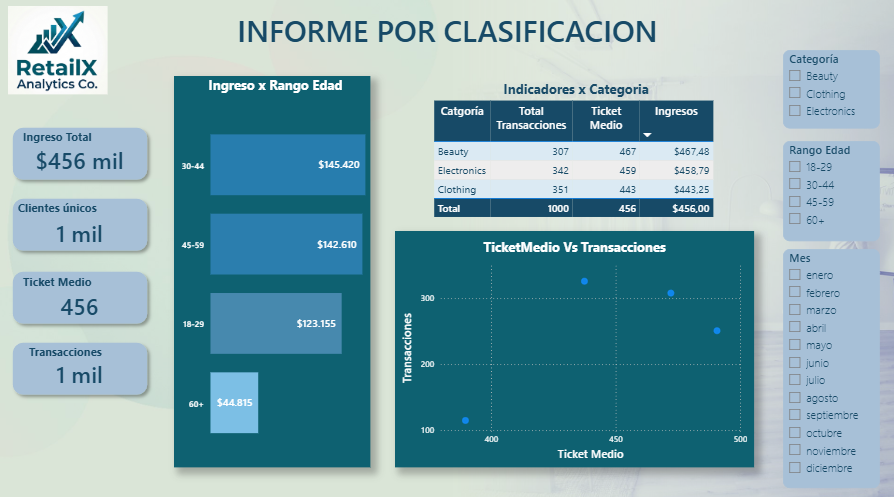

The dashboard page shown, as its layout file describes it:
{"tool":"powerbi","page":{"name":"Analisis por segmento","canvas":[1280,720],"ordinal":1},"visuals":[{"type":"image","box":[13.9,9.7,141.8,126.5],"z":0},{"type":"slicer","fields":{"Values":["vw_rfm_base.age_group"]},"box":[1118.9,202.9,137.6,143.2],"z":1000},{"type":"clusteredBarChart","title":"Ingreso x Rango Edad","fields":{"Y":["Cálculos.Ingreso Total"],"Category":["vw_kpi_edad.age_group"]},"box":[251.1,110.5,279.8,558.2],"z":2000},{"type":"tableEx","title":"Indicadores x Categoria","fields":{"Values":["retail_sales.product_category","Cálculos.Total Transacciones","Cálculos.Ticket Promedio","Cálculos.Ingreso por Cliente"]},"box":[615.6,110.5,411.8,221],"z":3000},{"type":"scatterChart","title":"TicketMedio Vs Transacciones","fields":{"X":["Cálculos.Ticket Promedio"],"Y":["Cálculos.Total Transacciones"],"Category":["vw_rfm_base.age_group"]},"box":[565.4,331.5,512.3,337.2],"z":4000},{"type":"shape","box":[11.1,378.7,210.9,93.3],"z":5000},{"type":"shape","box":[11.1,275.6,210.9,93.3],"z":6000},{"type":"shape","box":[11.1,480.8,210.9,93.3],"z":7000},{"type":"shape","box":[11.1,173.7,210.9,93.3],"z":8000},{"type":"cardVisual","fields":{"Data":["Cálculos.Ingreso Total"]},"box":[22.6,199.5,188,57.4],"z":9000},{"type":"cardVisual","fields":{"Data":["Cálculos.Clientes Unicos"]},"box":[22.6,301.4,188,60.3],"z":10000},{"type":"cardVisual","fields":{"Data":["Cálculos.Ticket Promedio"]},"box":[22.6,407.6,188,57.4],"z":11000},{"type":"cardVisual","fields":{"Data":["Cálculos.Total Transacciones"]},"box":[22.6,505.2,188,57.4],"z":12000},{"type":"textbox","box":[11.1,180.9,146.4,40.2],"z":13000},{"type":"textbox","box":[11.1,282.8,146.4,40.2],"z":14000},{"type":"textbox","box":[11.1,387.5,146.4,40.2],"z":15000},{"type":"textbox","box":[22.6,488,146.4,40.2],"z":16000},{"type":"textbox","box":[328.6,9.7,622.7,73.7],"z":17000},{"type":"slicer","fields":{"Values":["retail_sales.date.Variación.Jerarquía de fechas.Mes"]},"box":[1118.9,355.8,137.6,340.5],"z":18000},{"type":"slicer","fields":{"Values":["retail_sales.product_category"]},"box":[1119.3,73.2,137.8,111.9],"z":19000}]}

Visuals, with their boxes in screenshot pixels (x1, y1, x2, y2), scaled from the page's 1280x720 canvas onto the 894x497 screenshot:
image: 10/7/109/94
slicer - vw_rfm_base.age_group: 781/140/878/239
"Ingreso x Rango Edad" clusteredBarChart: 175/76/371/462
"Indicadores x Categoria" tableEx: 430/76/718/229
"TicketMedio Vs Transacciones" scatterChart: 395/229/753/462
shape: 8/261/155/326
shape: 8/190/155/255
shape: 8/332/155/396
shape: 8/120/155/184
cardVisual - Cálculos.Ingreso Total: 16/138/147/177
cardVisual - Cálculos.Clientes Unicos: 16/208/147/250
cardVisual - Cálculos.Ticket Promedio: 16/281/147/321
cardVisual - Cálculos.Total Transacciones: 16/349/147/388
textbox: 8/125/110/153
textbox: 8/195/110/223
textbox: 8/267/110/295
textbox: 16/337/118/365
textbox: 230/7/664/58
slicer - retail_sales.date.Variación.Jerarquía de fechas.Mes: 781/246/878/481
slicer - retail_sales.product_category: 782/51/878/128
